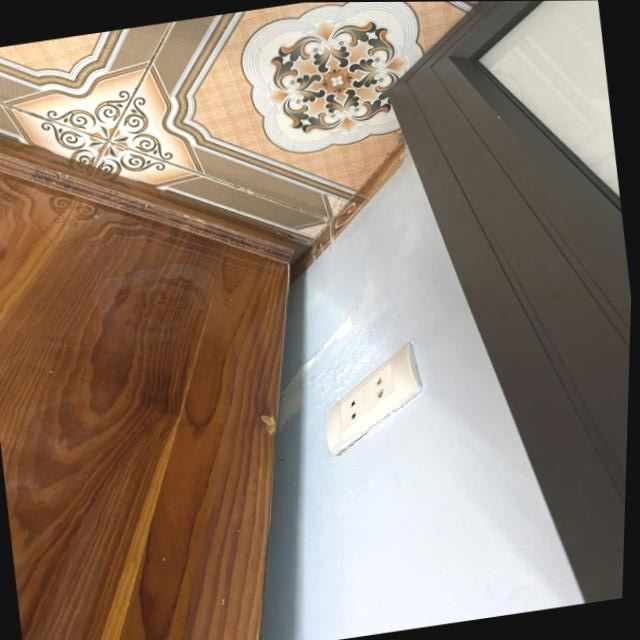outlet: (315, 340, 432, 458)
